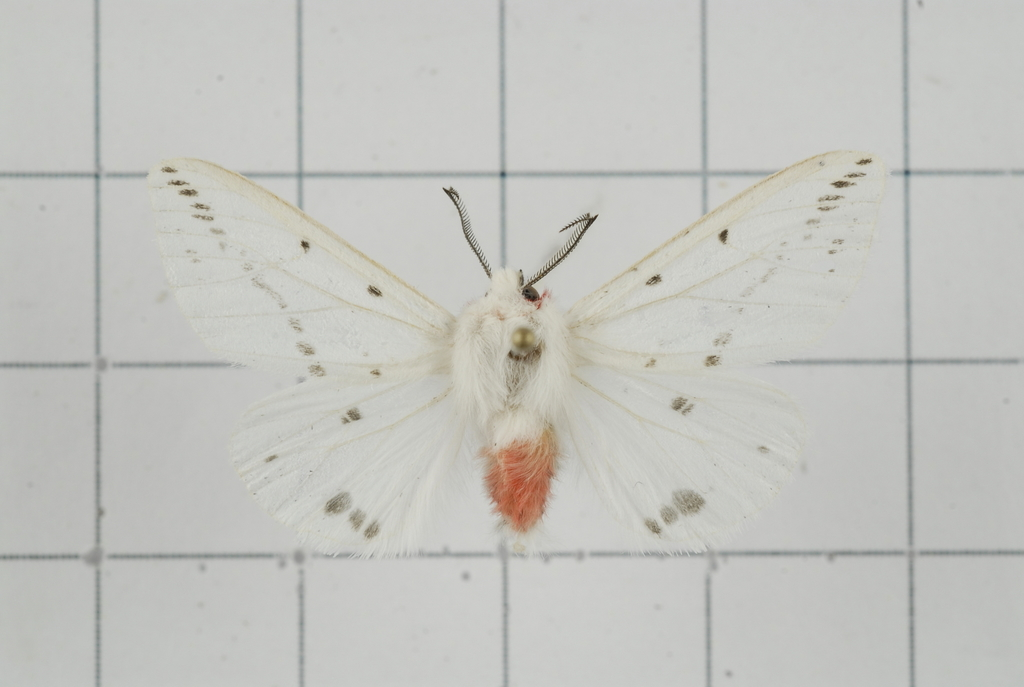Butterfly: (76, 127, 934, 594)
